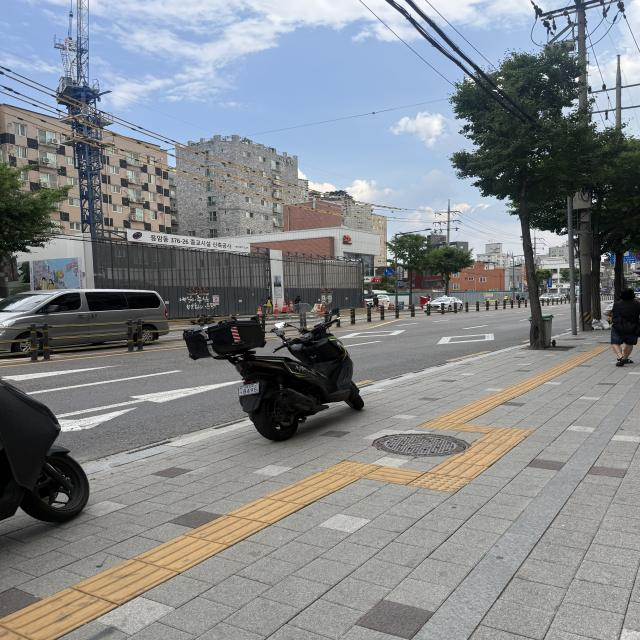motorcycle: (167, 282, 388, 461)
